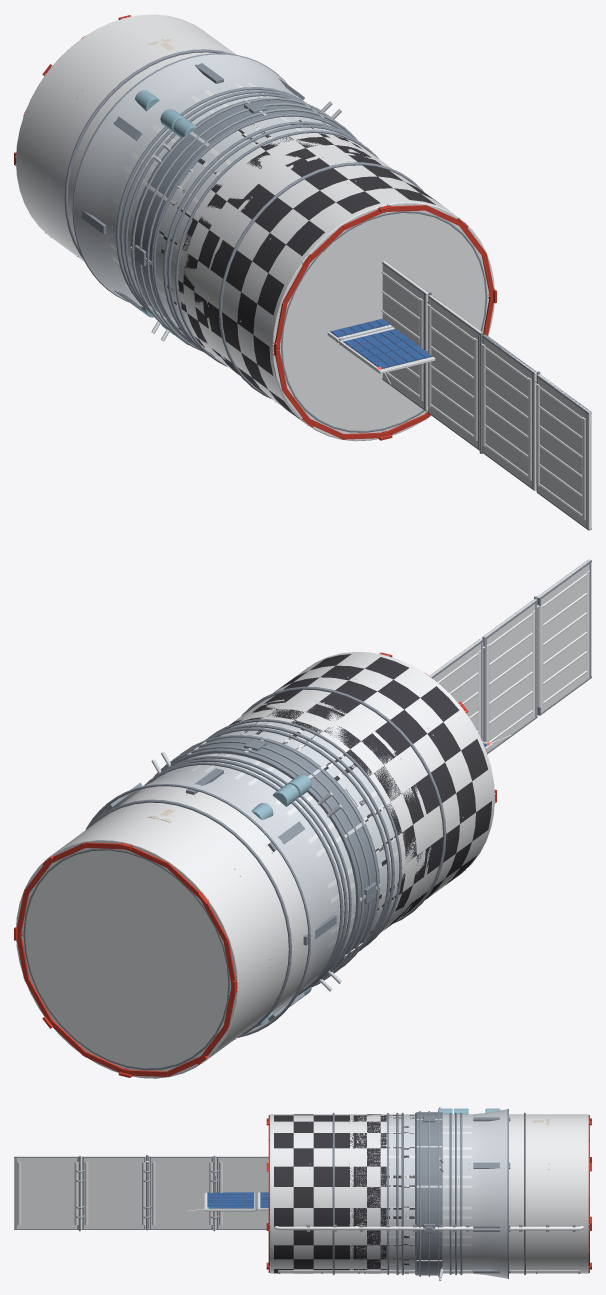
Rendered from ship-modules.glb.
3 views of the same model, one above another, from view 1: azimuth 30°, elevation 25°; view 2: azimuth 150°, elevation 25°; view 3: azimuth 270°, elevation 25° (orthographic). The views are drawn at different scales.
Visible parts, largest first — view 1: tank_hull (×3), booster_casing, module:tank-12-main, panel5, module:booster-standard, panel4, armor_hull, panel3, rcs_red_box_truss, module:armor-standard, panel2, anchorpanel-hinge3 (×2) (+7 smaller); view 2: tank_hull (×3), booster_casing, module:tank-12-main, armor_hull, panel4, panel5, module:booster-standard, rcs_red_box_truss, module:armor-standard, module:tank-6-main, anchorpanel-hinge4, panel3 (+2 smaller); view 3: tank_hull (×3), booster_casing, panel5, panel4, panel3, armor_hull, panel2, module:tank-12-main, module:booster-standard, cryo_feedline (×2), module:armor-standard, anchorpanel-hinge3 (×2) (+9 smaller).
Boxes of the visible parts, box(x1,y1,x2,y2) form: tank_hull (×3): box(16, 14, 494, 441); booster_casing: box(72, 53, 362, 353); module:tank-12-main: box(64, 49, 487, 432); panel5: box(537, 374, 591, 530); module:booster-standard: box(72, 53, 378, 366); panel4: box(483, 335, 536, 490); armor_hull: box(131, 97, 351, 347); panel3: box(429, 295, 482, 448); rcs_red_box_truss: box(14, 15, 496, 440); module:armor-standard: box(130, 97, 356, 351); panel2: box(382, 261, 428, 411); anchorpanel-hinge3 (×2): box(336, 292, 477, 440); tank_hull (×3): box(16, 652, 494, 1078); booster_casing: box(86, 721, 399, 1037); module:tank-12-main: box(23, 686, 446, 1070); armor_hull: box(161, 735, 379, 984); panel4: box(484, 599, 537, 752); panel5: box(537, 559, 591, 715); module:booster-standard: box(86, 719, 402, 1037); rcs_red_box_truss: box(14, 652, 496, 1077); module:armor-standard: box(154, 735, 380, 987); module:tank-6-main: box(153, 727, 390, 996); anchorpanel-hinge4: box(482, 610, 535, 742); panel3: box(430, 638, 483, 741); tank_hull (×3): box(270, 1114, 588, 1273); booster_casing: box(386, 1109, 507, 1278); panel5: box(14, 1156, 78, 1228); panel4: box(81, 1156, 145, 1228); panel3: box(148, 1156, 212, 1228); armor_hull: box(416, 1112, 442, 1275); panel2: box(215, 1156, 268, 1228); module:tank-12-main: box(306, 1108, 575, 1275); module:booster-standard: box(387, 1109, 510, 1278); cryo_feedline (×2): box(274, 1226, 584, 1230); module:armor-standard: box(416, 1111, 441, 1276); anchorpanel-hinge3 (×2): box(143, 1155, 258, 1231).
Bounding box in the file's own units: 6.45 × 6.42 × 21.75.
